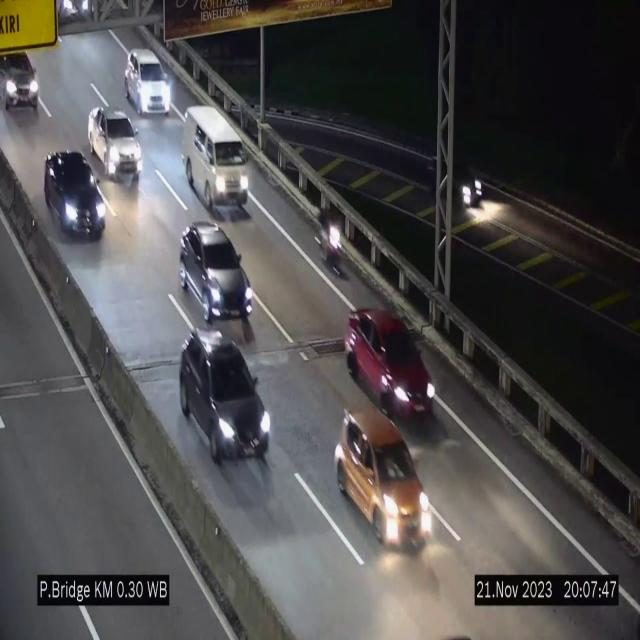Car: (179, 328, 271, 497), (335, 409, 434, 550), (343, 300, 437, 428), (180, 222, 252, 336), (186, 108, 250, 218), (42, 151, 108, 252), (88, 105, 142, 190), (124, 50, 173, 114)
Motorcycle: (312, 200, 349, 290)
